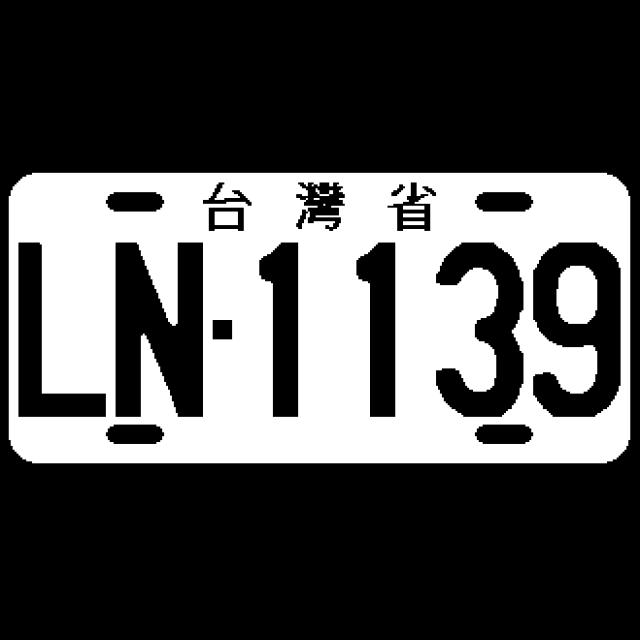plate: (5, 171, 632, 467)
